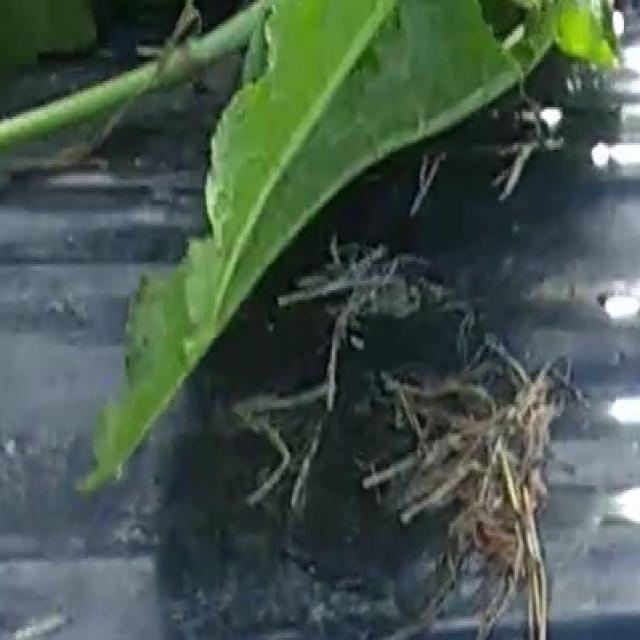organic waste: (148, 0, 603, 495)
